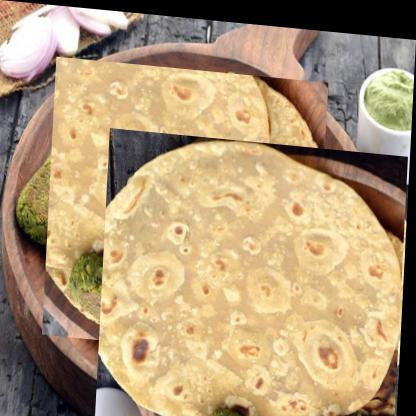roti: (98, 124, 411, 415), (45, 55, 330, 355)
